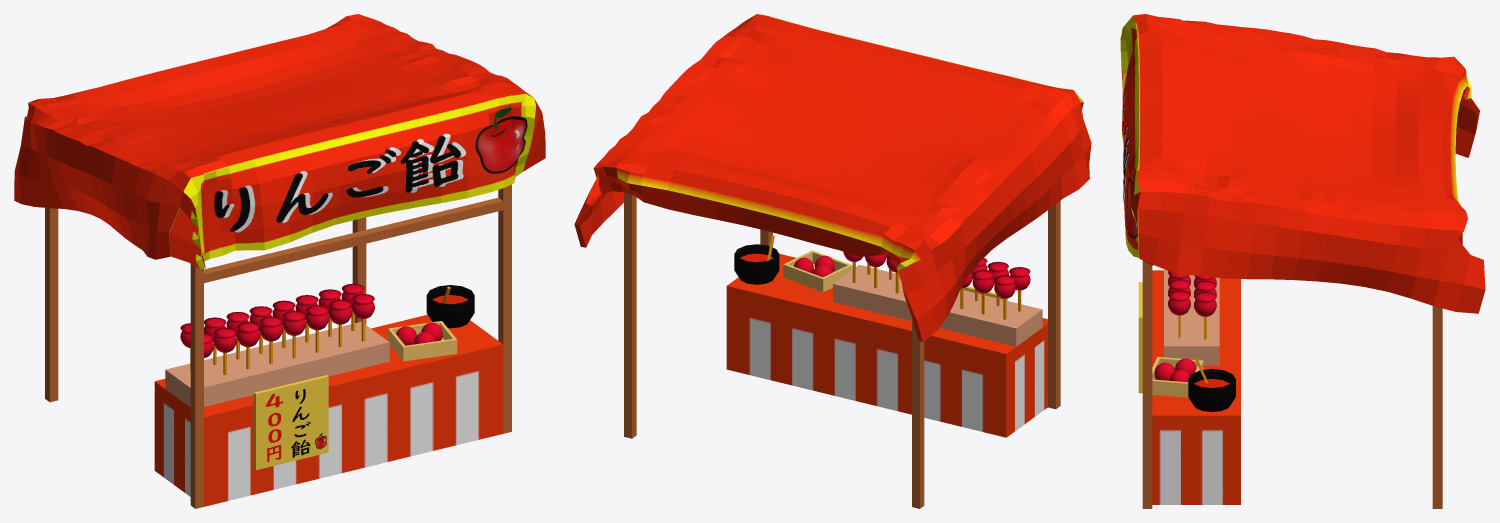
The model's file is ringoame_1015.fbx.
The picture shows the model from 3 angles, left to right: view 1: azimuth 30°, elevation 25°; view 2: azimuth 150°, elevation 25°; view 3: azimuth 270°, elevation 25°; orthographic projection. The views are drawn at different scales.
Visible parts, largest first — view 1: Plane, Cube, Cube.005, Cube.003, Plane.001, Cylinder, Cube.020; view 2: Plane, Cube, Cube.005, Cube.003, Cylinder, Cube.020; view 3: Plane, Cube, Cube.005, Cube.003, Cylinder, Cube.020, Plane.001, Sphere.014, Sphere.015.
Part boxes in pixels (box(x1,y1,x2,y2)): Plane: box(14, 14, 545, 268); Cube: box(154, 314, 503, 506); Cube.005: box(45, 184, 511, 508); Cube.003: box(165, 322, 389, 407); Plane.001: box(254, 375, 328, 470); Cylinder: box(426, 285, 474, 328); Cube.020: box(388, 321, 457, 361); Plane: box(574, 14, 1091, 341); Cube: box(726, 253, 1047, 437); Cube.005: box(624, 192, 1060, 508); Cube.003: box(833, 264, 1042, 346); Cylinder: box(734, 244, 779, 284); Cube.020: box(783, 250, 852, 292); Plane: box(1120, 14, 1485, 313); Cube: box(1152, 270, 1240, 504); Cube.005: box(1142, 260, 1442, 508); Cube.003: box(1164, 269, 1219, 365); Cylinder: box(1188, 369, 1235, 411); Cube.020: box(1152, 357, 1203, 397); Plane.001: box(1138, 282, 1142, 393); Sphere.014: box(1168, 290, 1190, 315); Sphere.015: box(1193, 291, 1216, 316).
Size of the model in its own units: 928 by 760 by 743.
